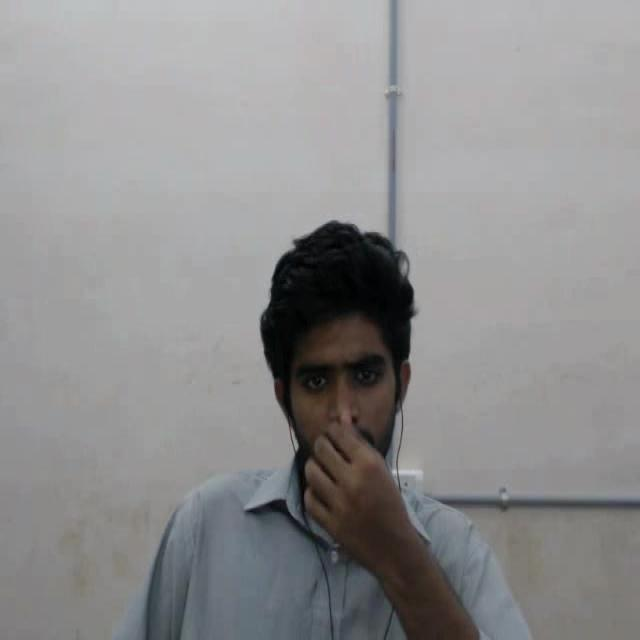Bored: (234, 182, 447, 526)
